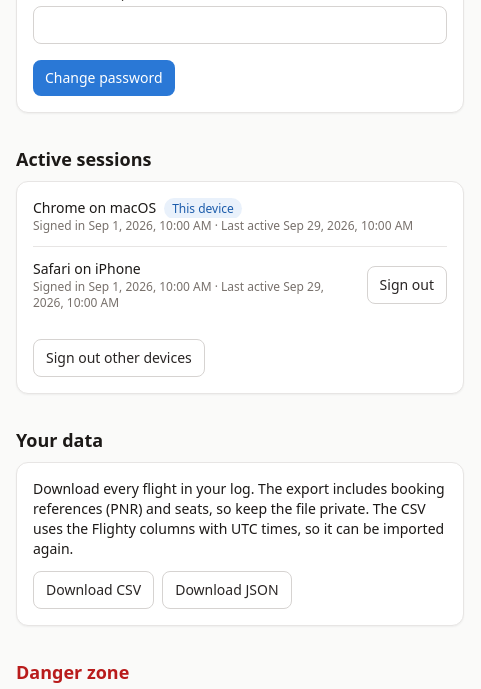
Test: Sessions section › signs out other devices after confirmation
(page scrolled)
Click the button "Sign out other devices".
click(119, 358)  # box [33, 339, 205, 377]
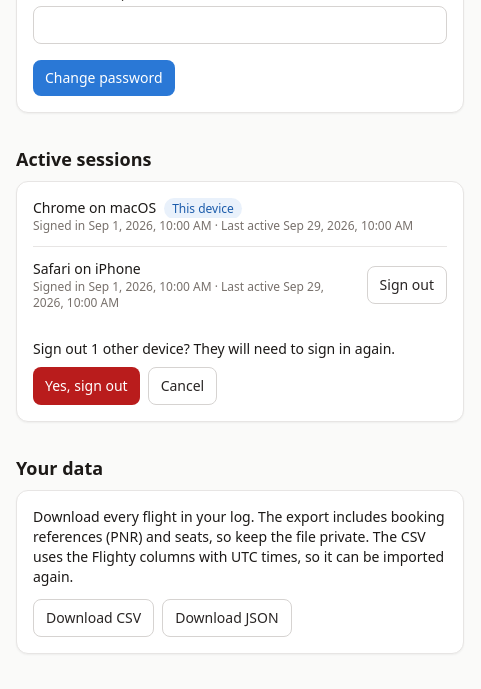
Click the button "Yes, sign out".
click(86, 386)  # box [33, 367, 140, 405]
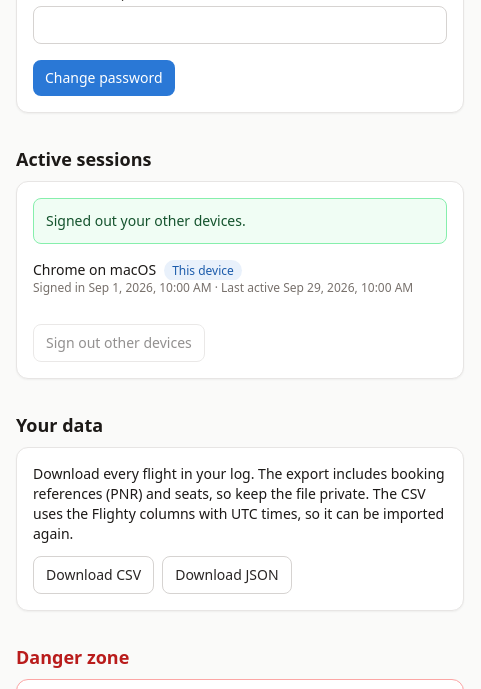
Check: the text "Signed out your other devices." is shown, box [33, 198, 447, 244]
Check: the text "Safari on iPhone" is gone
Check: the button "Sign out other devices" is disabled, box [33, 324, 205, 362]
